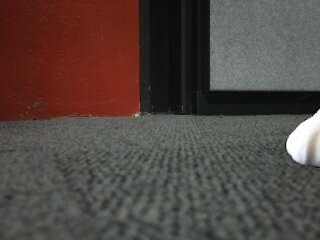Garlic: (285, 107, 320, 168)
